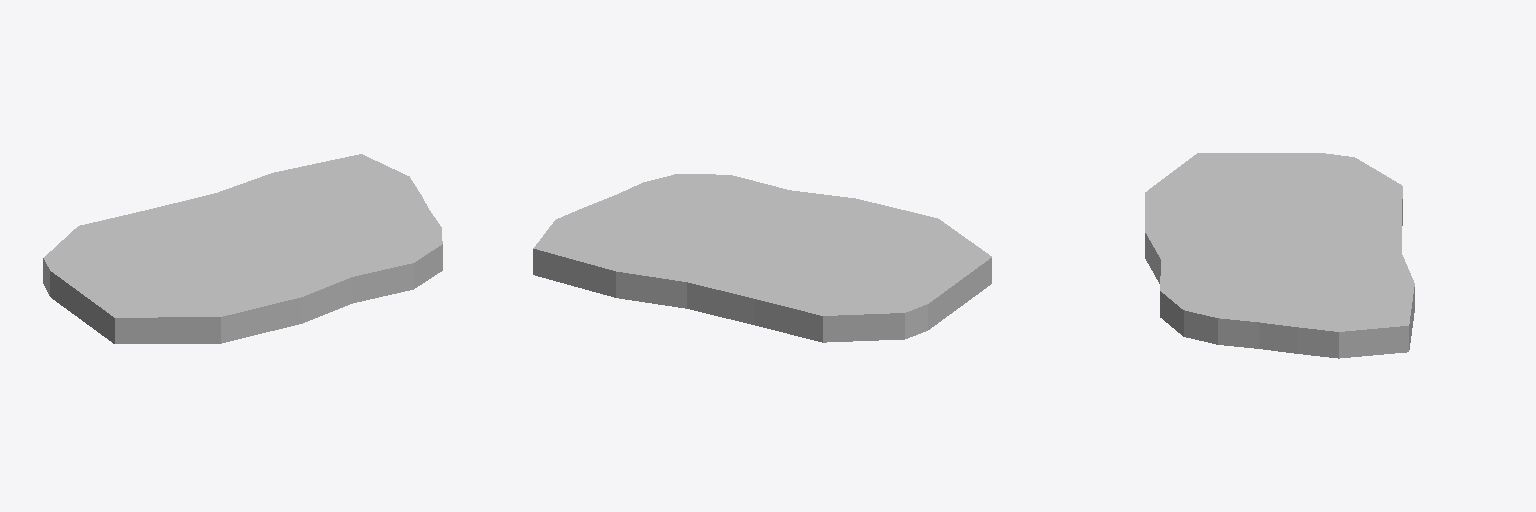
The model's file is WaterfallColider.obj.
The picture shows the model from 3 angles: view 1: azimuth 30°, elevation 25°; view 2: azimuth 150°, elevation 25°; view 3: azimuth 270°, elevation 25°; orthographic projection.
Parts seen in each view (by area): view 1: pPlane2; view 2: pPlane2; view 3: pPlane2.
Boxes of the visible parts, x1=… form: pPlane2: x1=43, y1=154, x2=442, y2=343; pPlane2: x1=533, y1=174, x2=991, y2=342; pPlane2: x1=1145, y1=153, x2=1414, y2=358.
Size of the model in its own units: 26.8 by 1.86 by 17.11.